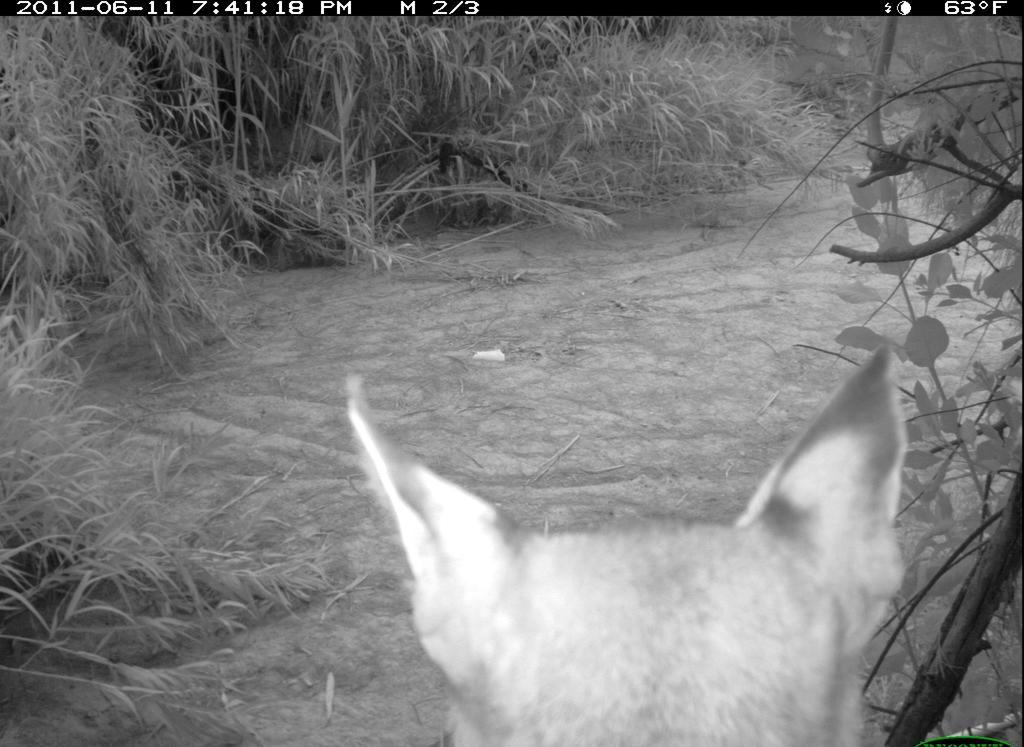bobcat: (322, 346, 932, 747)
